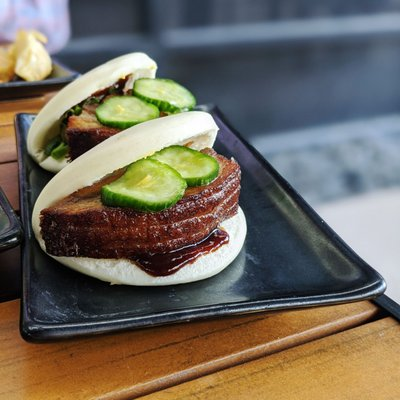soup: (32, 108, 245, 285), (26, 50, 194, 173)
